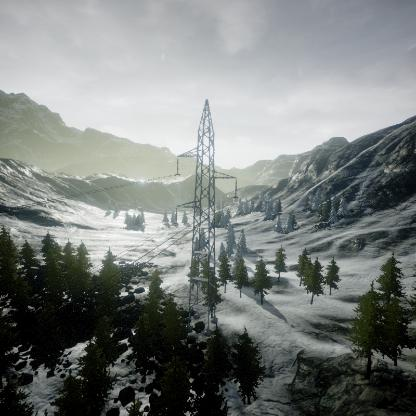tower: (173, 96, 239, 334)
